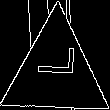L_W: (33, 55, 79, 88)
